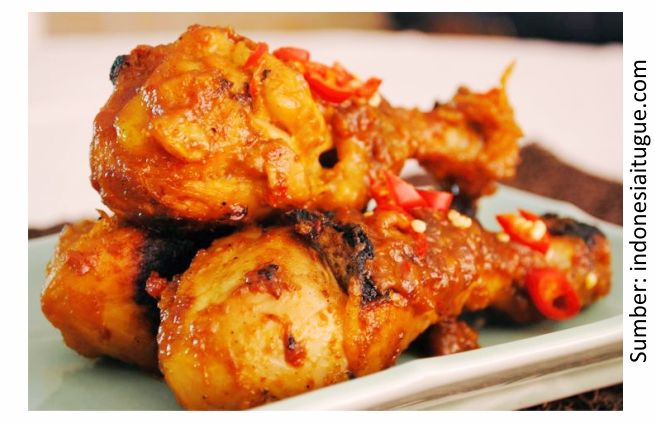Ayam: (154, 206, 609, 403), (95, 55, 529, 189)
